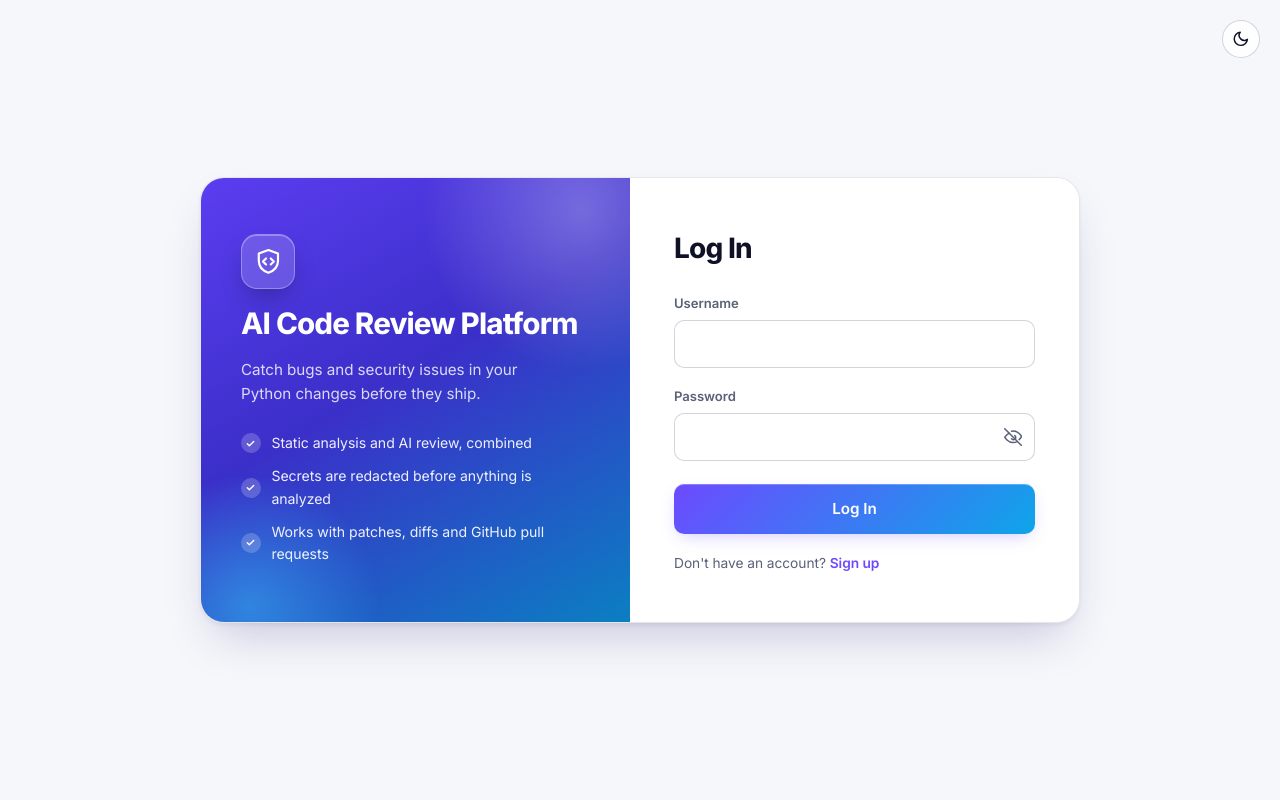
Test: Login page › shows the server error and stays on the page when login fails
Type "alice" into the field labelled "Username" at [854, 344], box [674, 320, 1035, 368]
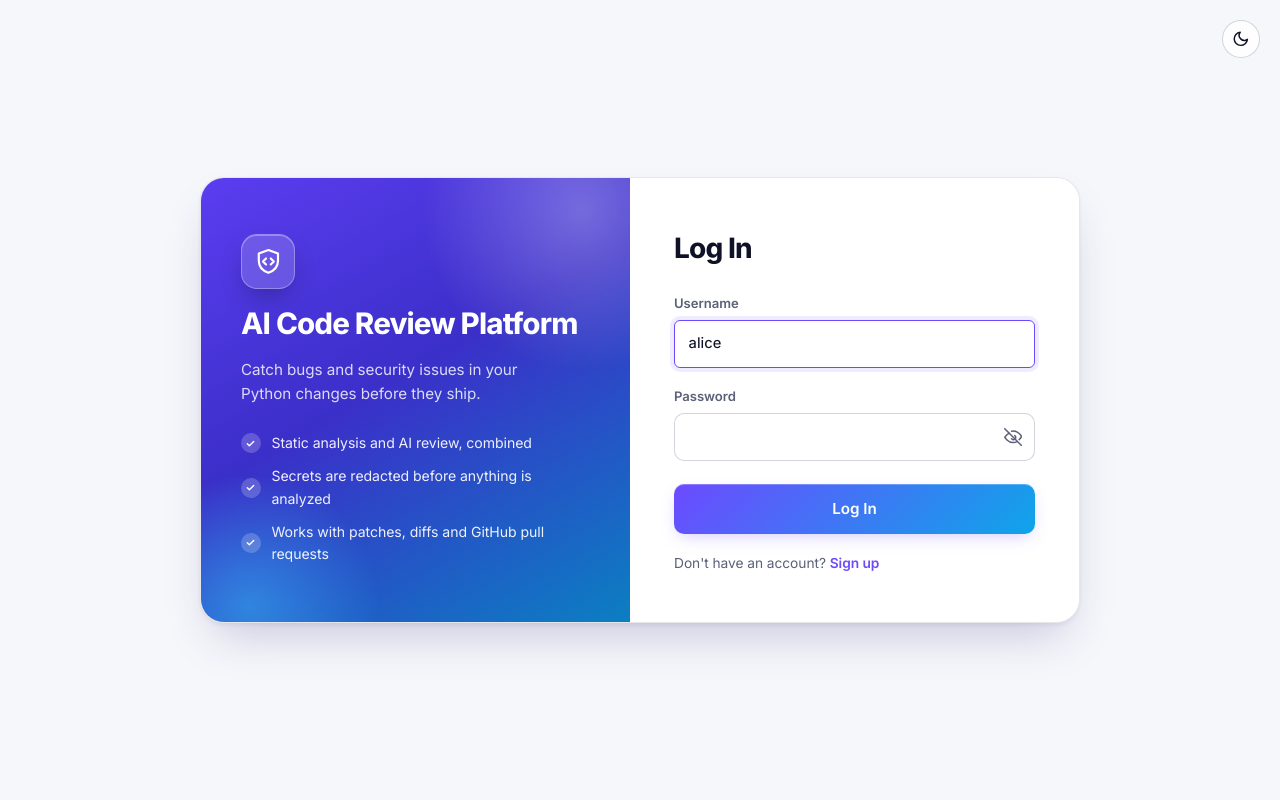
Type "wrongpass1" into the password field labelled "Password" at [854, 437], box [674, 413, 1035, 461]
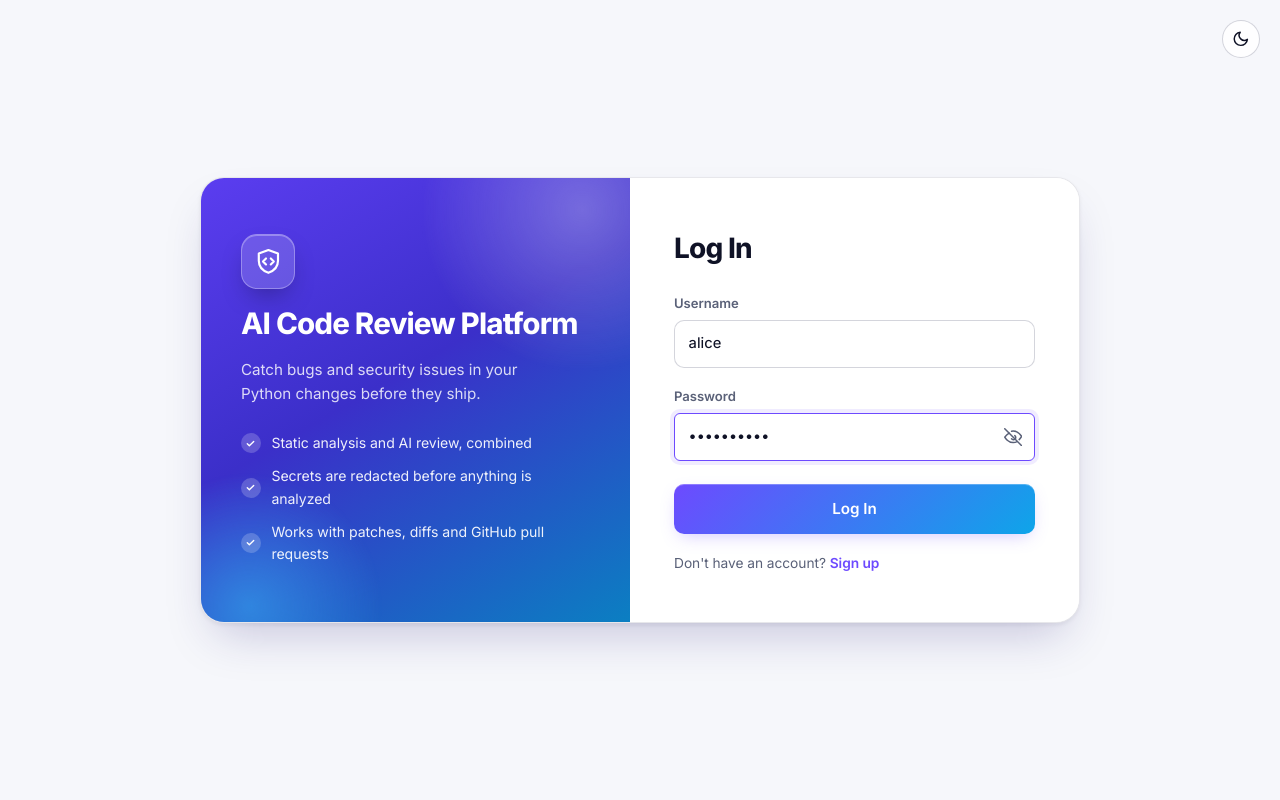
Click the button "Log In" at [854, 509], box [674, 484, 1035, 534]
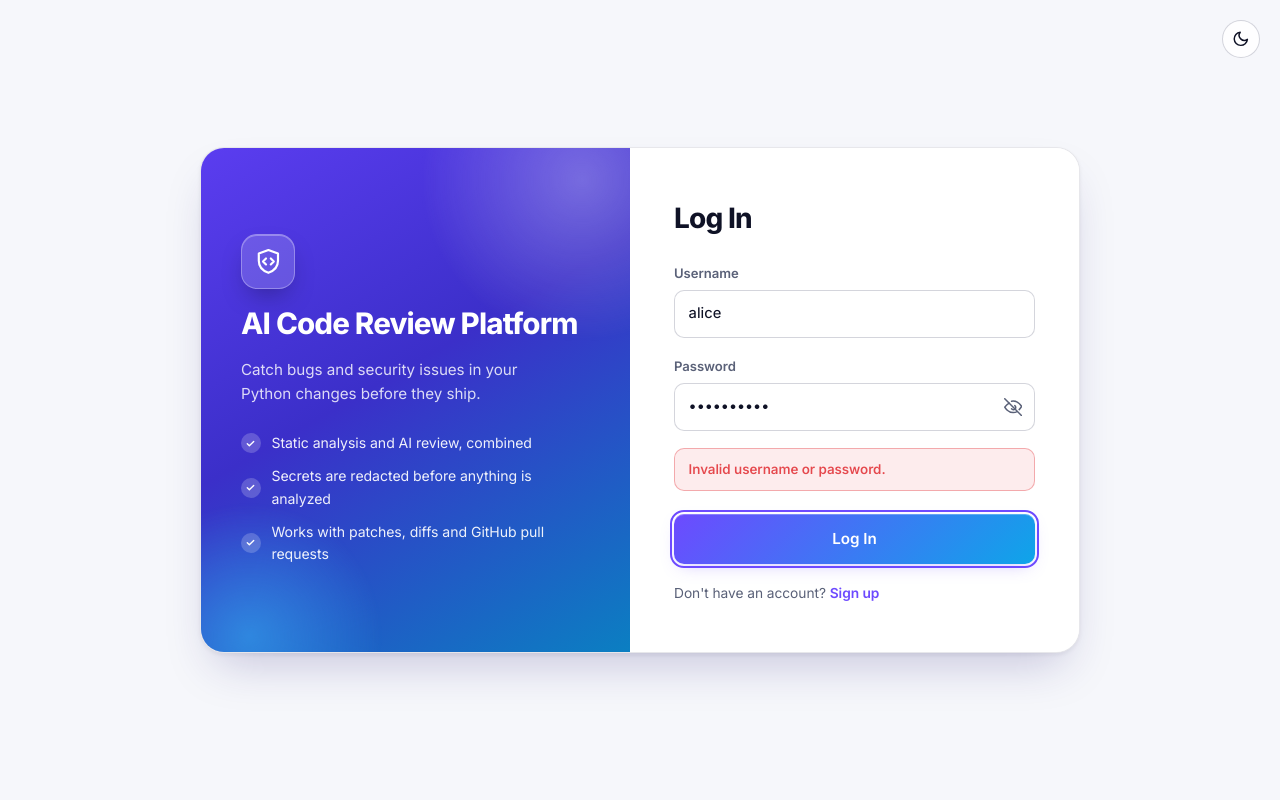
expect the text "Invalid username or password." is shown: met, box [674, 448, 1035, 491]
